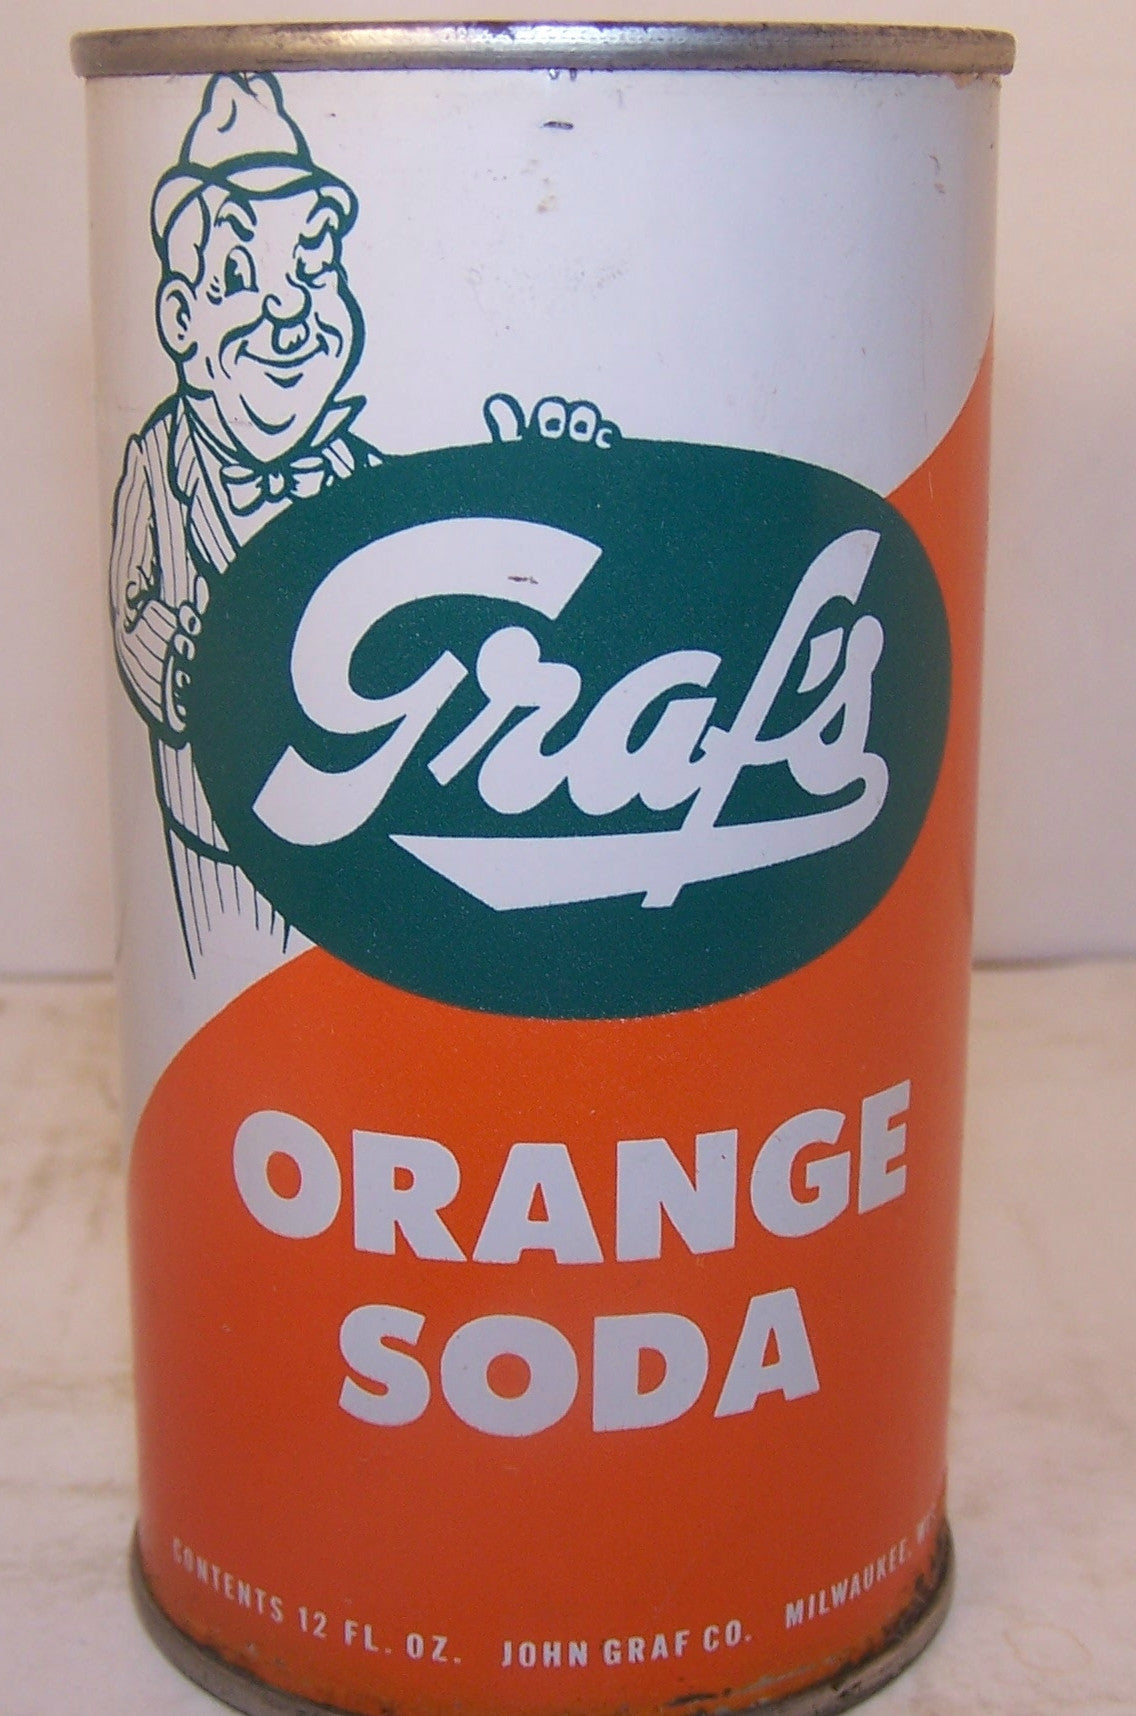Can: (68, 16, 958, 1716)
